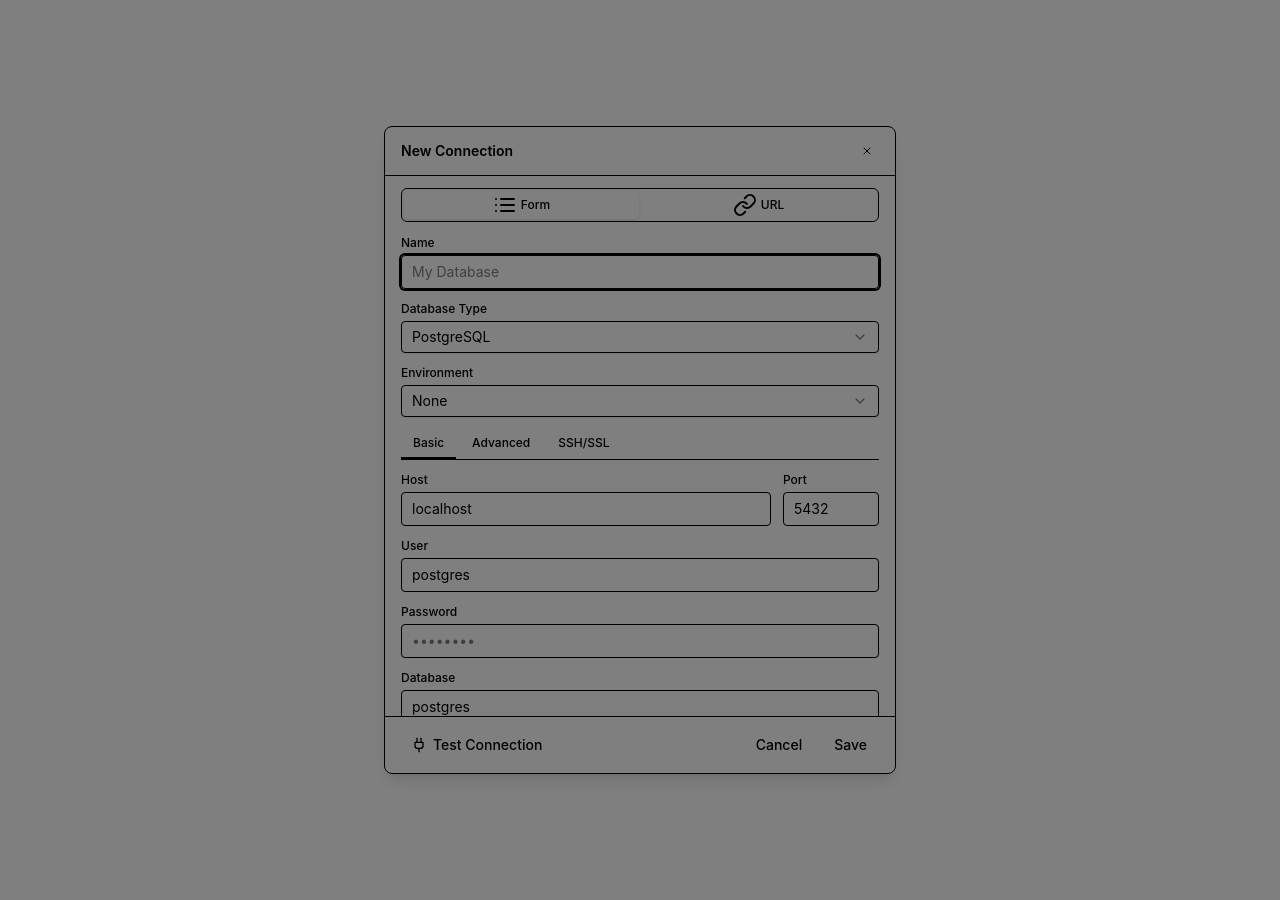
ConnectionDialog › shows error when database is empty on save (non-SQLite)
Type "Test DB" into the field labelled "Name" at (640, 272), box [401,255,879,289]
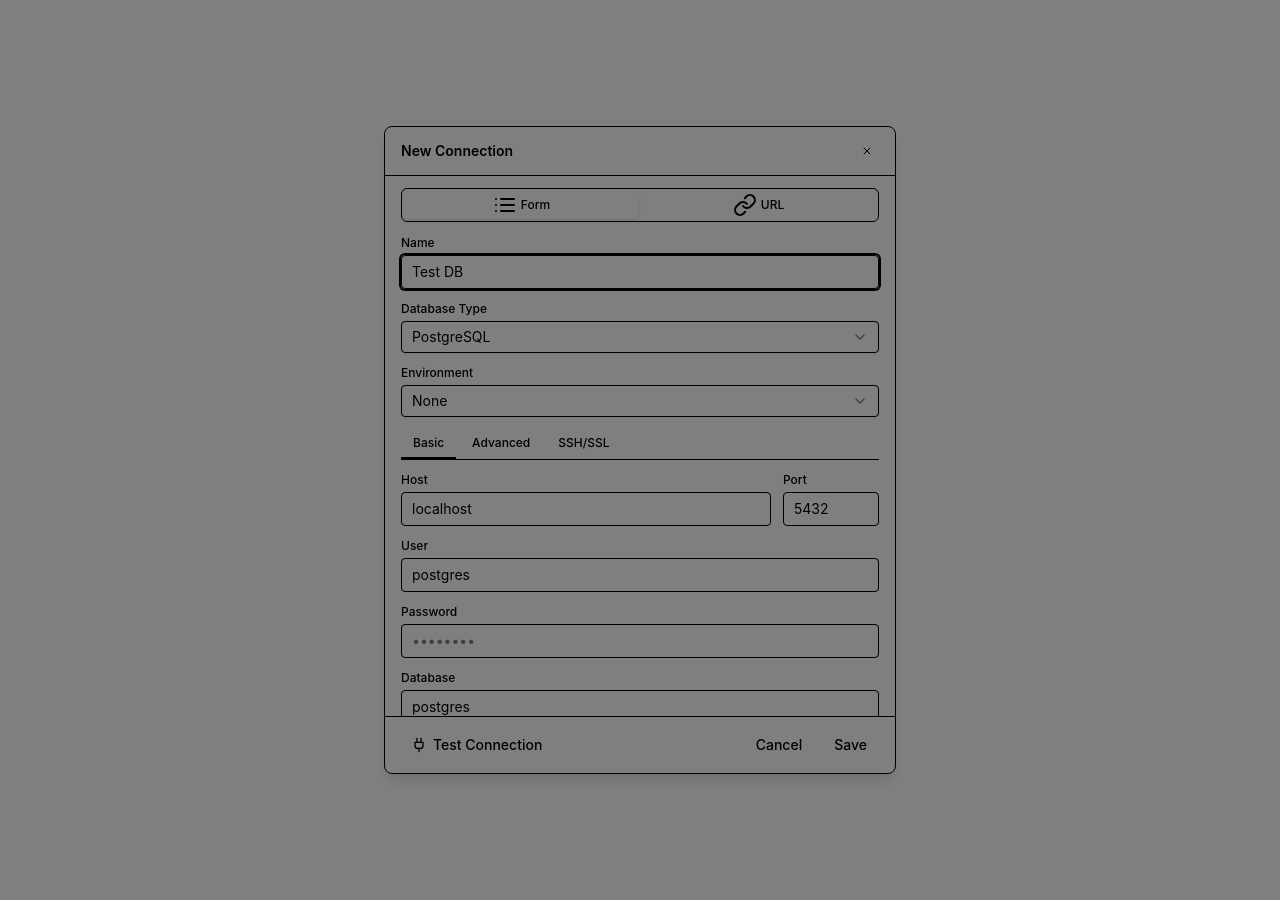
Clear the field labelled "Database" at (640, 707), box [401,690,879,724]
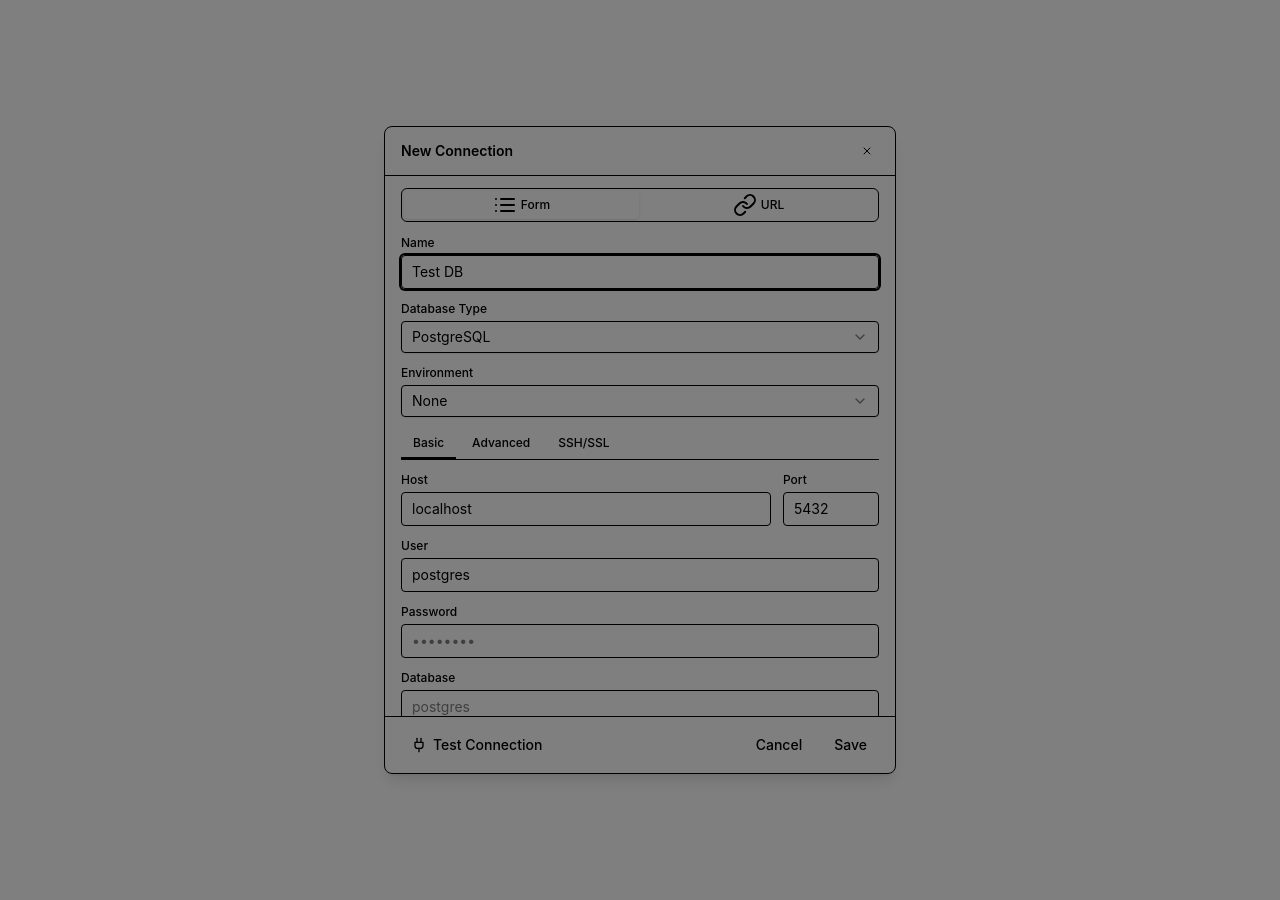
Click the button "Save" at (851, 745), box [822,729,879,761]
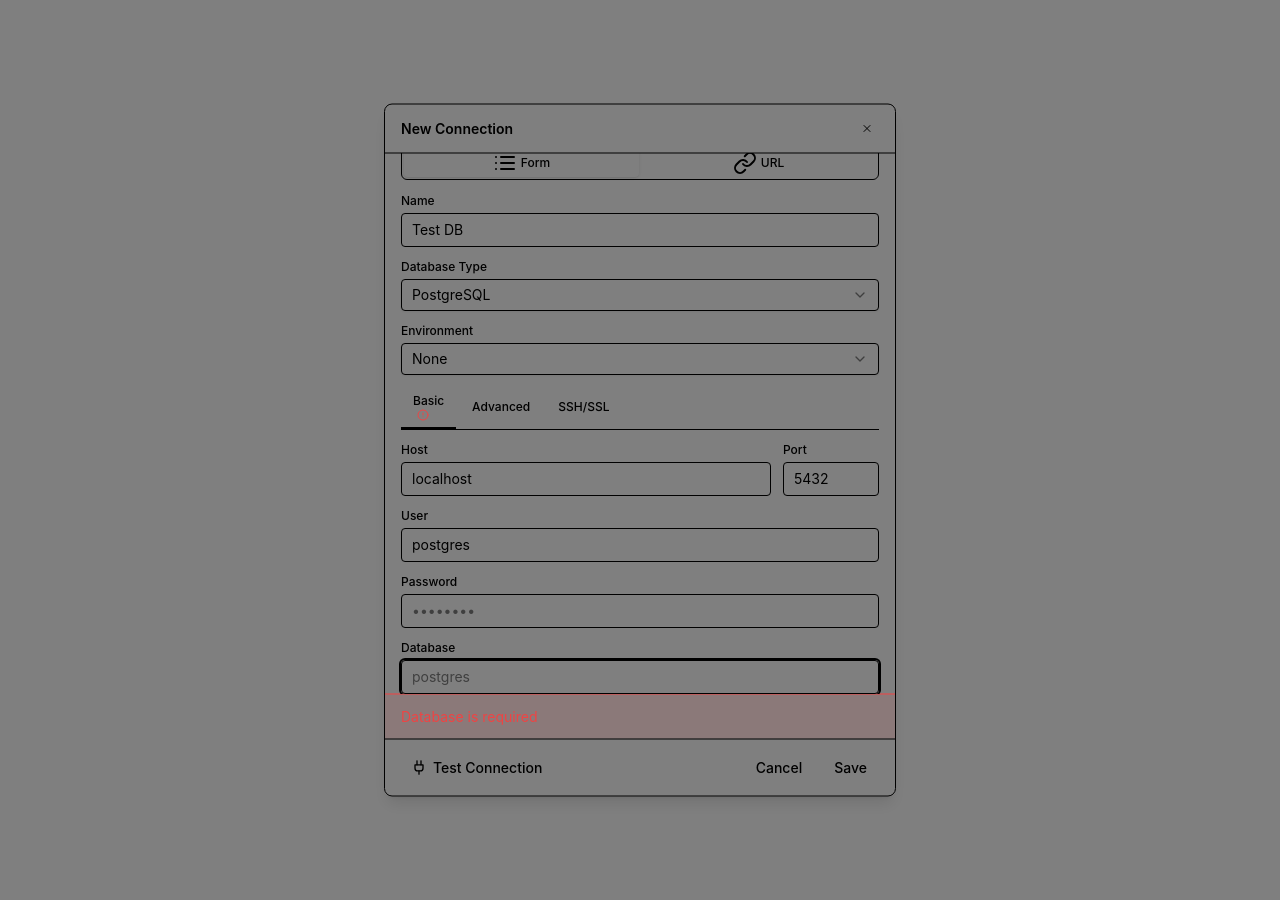
Expected: the message reads "Database is required", [401,708,538,724]
